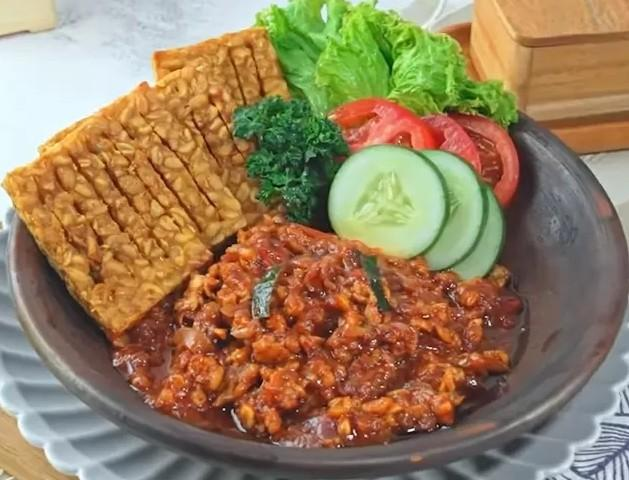buah_sayur_lainnya: (365, 164, 459, 246), (312, 24, 388, 94), (267, 128, 315, 198)
buah_sayur_vitA: (229, 260, 414, 412)
kacang_legume: (72, 127, 220, 248)
